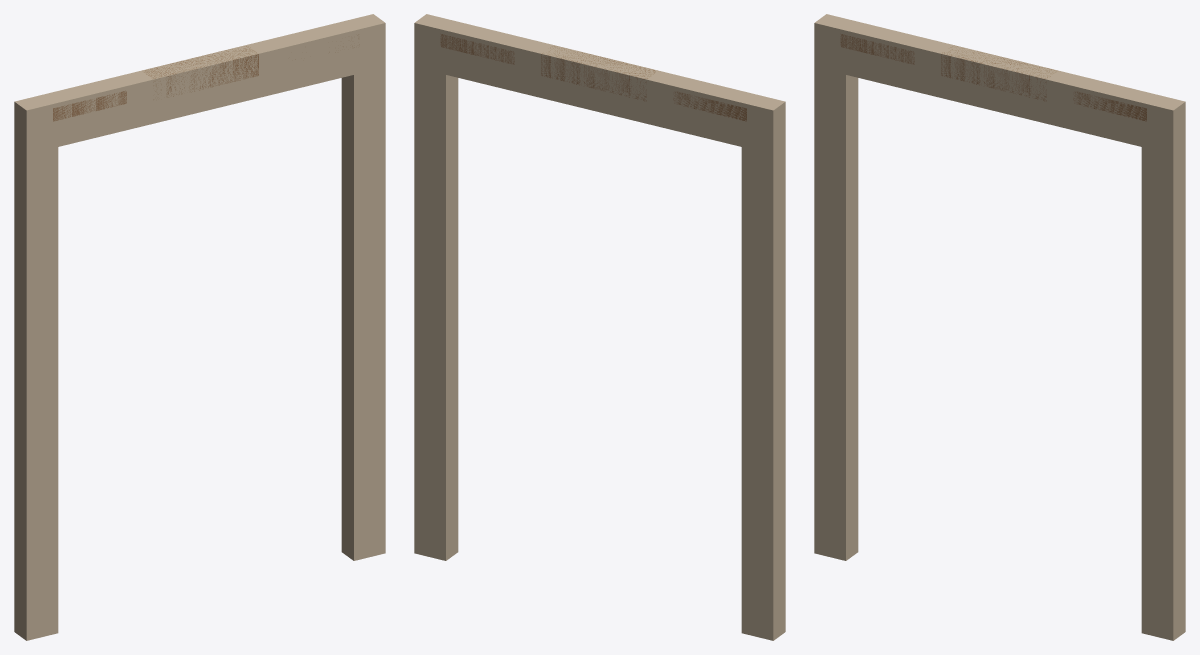
The picture shows the model from 3 angles, left to right: view 1: azimuth 30°, elevation 25°; view 2: azimuth 150°, elevation 25°; view 3: azimuth 330°, elevation 25°; orthographic projection.
Visible parts, largest first — view 1: left-jamb, right-jamb, header, crown-center, crown-wing--0.55; view 2: left-jamb, right-jamb, header, crown-center, crown-wing-0.55, crown-wing--0.55; view 3: right-jamb, left-jamb, header, crown-center, crown-wing--0.55, crown-wing-0.55.
Part boxes in pixels (left/top/right/bottom): left-jamb: left=14, top=146, right=58, bottom=640; right-jamb: left=341, top=67, right=385, bottom=560; header: left=14, top=14, right=385, bottom=154; crown-center: left=142, top=46, right=258, bottom=99; crown-wing--0.55: left=53, top=90, right=126, bottom=121; left-jamb: left=741, top=146, right=785, bottom=640; right-jamb: left=414, top=67, right=458, bottom=560; header: left=414, top=14, right=785, bottom=154; crown-center: left=541, top=45, right=657, bottom=101; crown-wing-0.55: left=440, top=34, right=514, bottom=64; crown-wing--0.55: left=673, top=91, right=746, bottom=121; right-jamb: left=1141, top=146, right=1185, bottom=640; left-jamb: left=814, top=67, right=858, bottom=560; header: left=814, top=14, right=1185, bottom=154; crown-center: left=941, top=45, right=1057, bottom=101; crown-wing--0.55: left=840, top=34, right=914, bottom=64; crown-wing-0.55: left=1073, top=91, right=1146, bottom=121.
Size of the model in its own units: 1.7 by 2.4 by 0.1.
